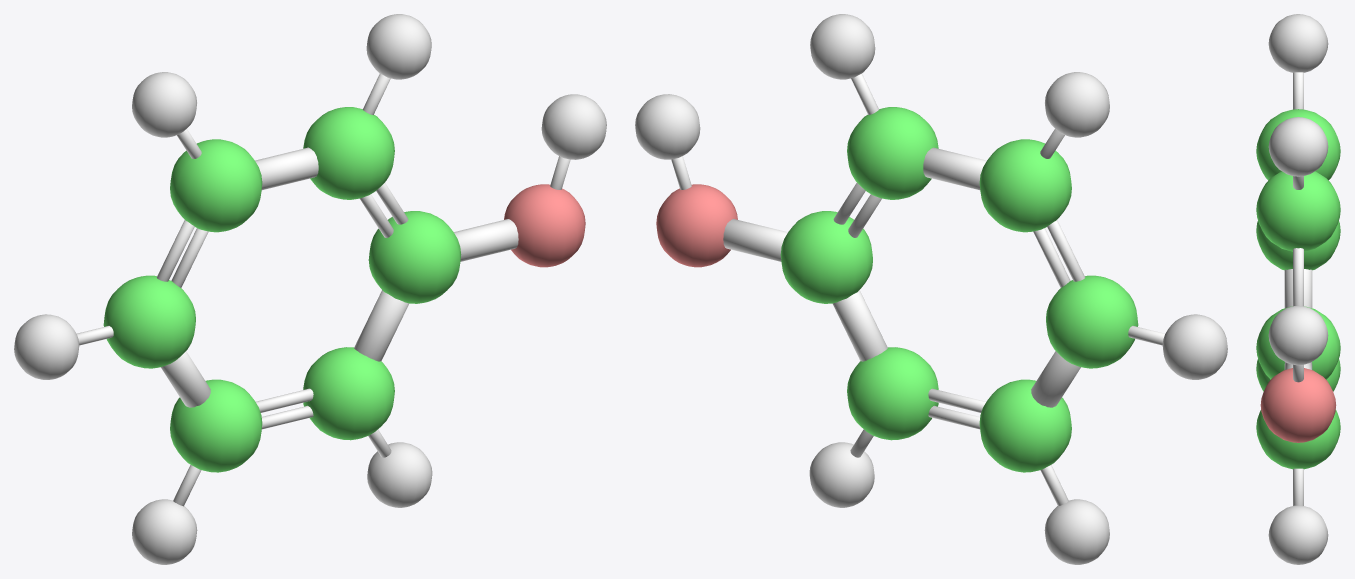
Rendered from Fenol.fbx.
3 views of the same model, side by side, from view 1: azimuth 30°, elevation 25°; view 2: azimuth 150°, elevation 25°; view 3: azimuth 270°, elevation 25° (orthographic). The views are drawn at different scales.
Parts seen in each view (by area): view 1: Shape_Sphere.006, Shape_Sphere.004, Shape_Sphere.001, Shape_Sphere.003, Shape_Sphere.002, Shape_Sphere.005, Shape_Sphere, Shape_Sphere.007, Shape_Sphere.012, Shape_Sphere.011, Shape_Sphere.009, Shape_Sphere.010 (+8 smaller); view 2: Shape_Sphere.006, Shape_Sphere.004, Shape_Sphere.001, Shape_Sphere.003, Shape_Sphere.002, Shape_Sphere.005, Shape_Sphere, Shape_Sphere.012, Shape_Sphere.007, Shape_Sphere.011, Shape_Sphere.009, Shape_Sphere.010 (+8 smaller); view 3: Shape_Sphere.002, Shape_Sphere, Shape_Sphere.008, Shape_Sphere.012, Shape_Sphere.007, Shape_Sphere.009, Shape_Sphere.003, Shape_Sphere.004, Shape_Sphere.001, Shape_Sphere.006, Shape_Cylinder.013, Shape_Cylinder.002 (+5 smaller).
Boxes of the visible parts, left/top/right/bottom form: Shape_Sphere.006: left=103, top=275, right=195, bottom=368; Shape_Sphere.004: left=170, top=139, right=262, bottom=232; Shape_Sphere.001: left=368, top=211, right=461, bottom=303; Shape_Sphere.003: left=303, top=347, right=394, bottom=440; Shape_Sphere.002: left=303, top=107, right=394, bottom=199; Shape_Sphere.005: left=170, top=379, right=262, bottom=472; Shape_Sphere: left=504, top=184, right=585, bottom=267; Shape_Sphere.007: left=366, top=14, right=431, bottom=79; Shape_Sphere.012: left=541, top=94, right=606, bottom=159; Shape_Sphere.011: left=14, top=314, right=79, bottom=379; Shape_Sphere.009: left=132, top=72, right=196, bottom=137; Shape_Sphere.010: left=132, top=499, right=197, bottom=564; Shape_Sphere.006: left=1046, top=275, right=1138, bottom=368; Shape_Sphere.004: left=979, top=139, right=1071, bottom=232; Shape_Sphere.001: left=780, top=211, right=872, bottom=303; Shape_Sphere.003: left=847, top=347, right=938, bottom=440; Shape_Sphere.002: left=847, top=107, right=938, bottom=199; Shape_Sphere.005: left=979, top=379, right=1071, bottom=472; Shape_Sphere: left=656, top=184, right=737, bottom=267; Shape_Sphere.012: left=635, top=94, right=700, bottom=159; Shape_Sphere.007: left=810, top=14, right=875, bottom=79; Shape_Sphere.011: left=1162, top=314, right=1227, bottom=379; Shape_Sphere.009: left=1045, top=72, right=1109, bottom=137; Shape_Sphere.010: left=1044, top=499, right=1109, bottom=564; Shape_Sphere.002: left=1256, top=171, right=1340, bottom=251; Shape_Sphere: left=1260, top=368, right=1336, bottom=442; Shape_Sphere.008: left=1268, top=505, right=1328, bottom=564; Shape_Sphere.012: left=1268, top=305, right=1328, bottom=365; Shape_Sphere.007: left=1268, top=117, right=1328, bottom=176; Shape_Sphere.009: left=1268, top=14, right=1328, bottom=72; Shape_Sphere.003: left=1256, top=409, right=1340, bottom=469; Shape_Sphere.004: left=1256, top=109, right=1340, bottom=180; Shape_Sphere.001: left=1256, top=306, right=1340, bottom=379; Shape_Sphere.006: left=1256, top=221, right=1340, bottom=270; Shape_Cylinder.013: left=1284, top=269, right=1312, bottom=308; Shape_Cylinder.002: left=1293, top=248, right=1303, bottom=306.
Size of the model in its own units: 615 by 491 by 85.05.
